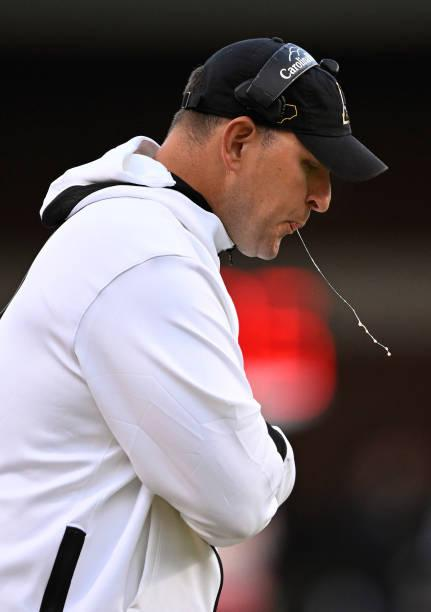Spitting: (160, 9, 413, 321), (385, 302, 390, 303)
